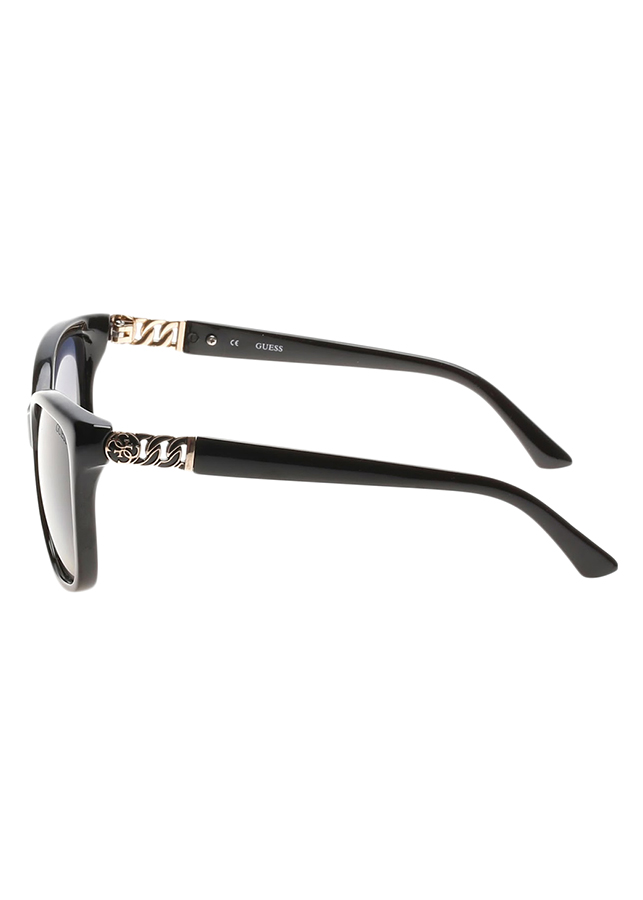Guess: (250, 335, 292, 355)
